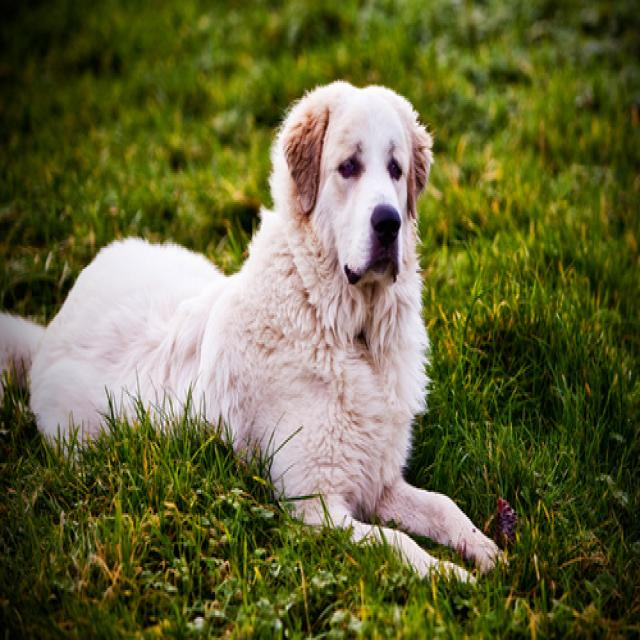dog-great_pyrenees: (1, 75, 504, 590)
